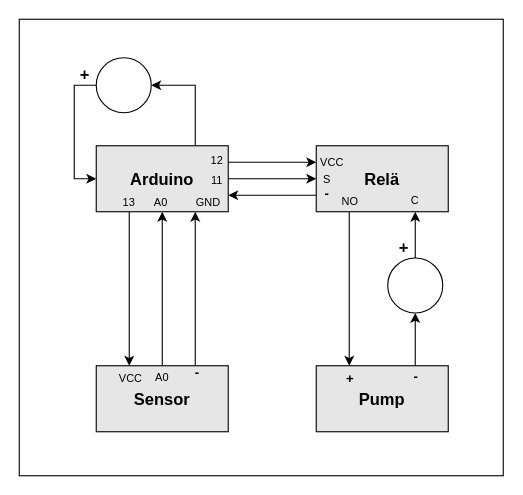
Some shapes in this 523 by 495 pixel diagram are drawn without their labels. Each missing label, with the centre of its shape:
12V: point 415,285
5V: point 123,85
